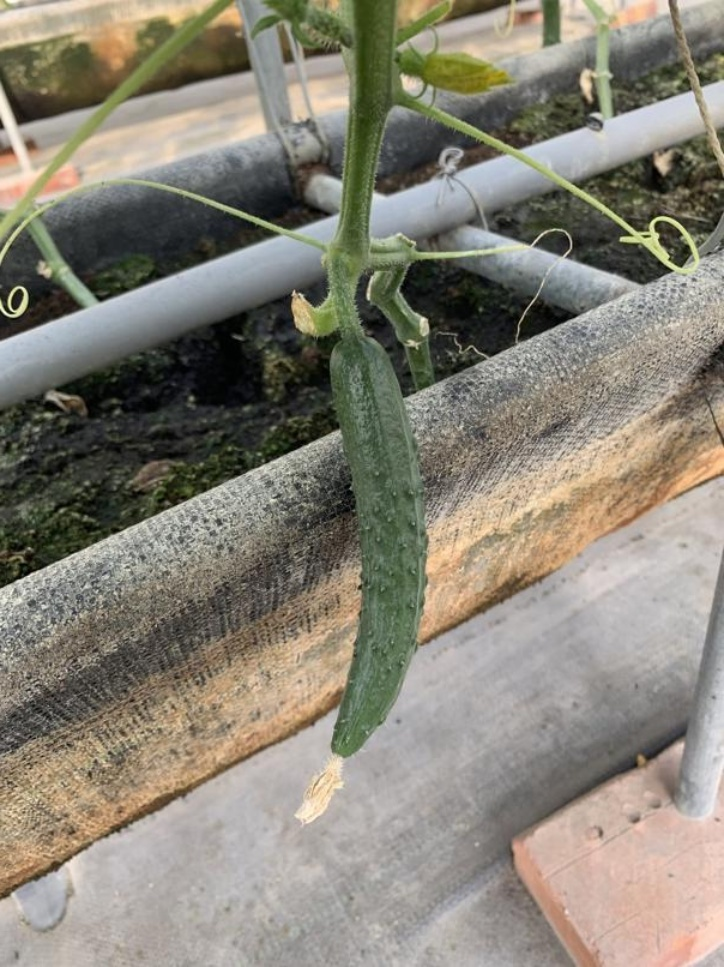bud: (407, 41, 516, 96)
growth: (285, 332, 448, 799)
